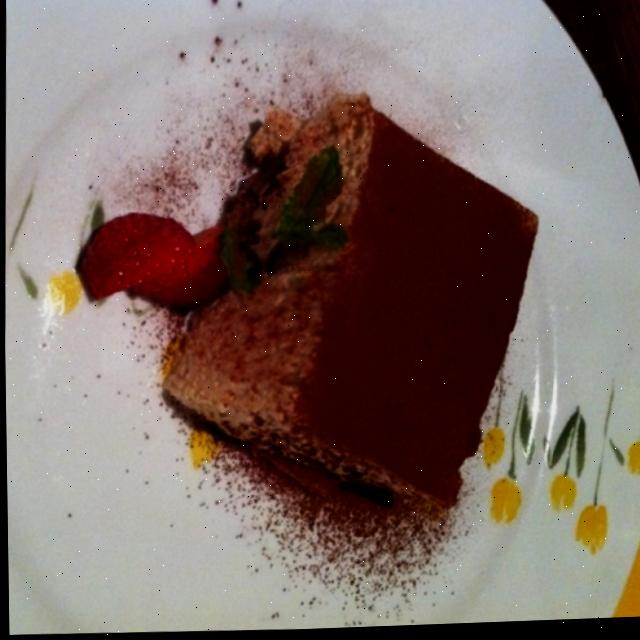蛋糕甜品: (38, 21, 616, 612)
